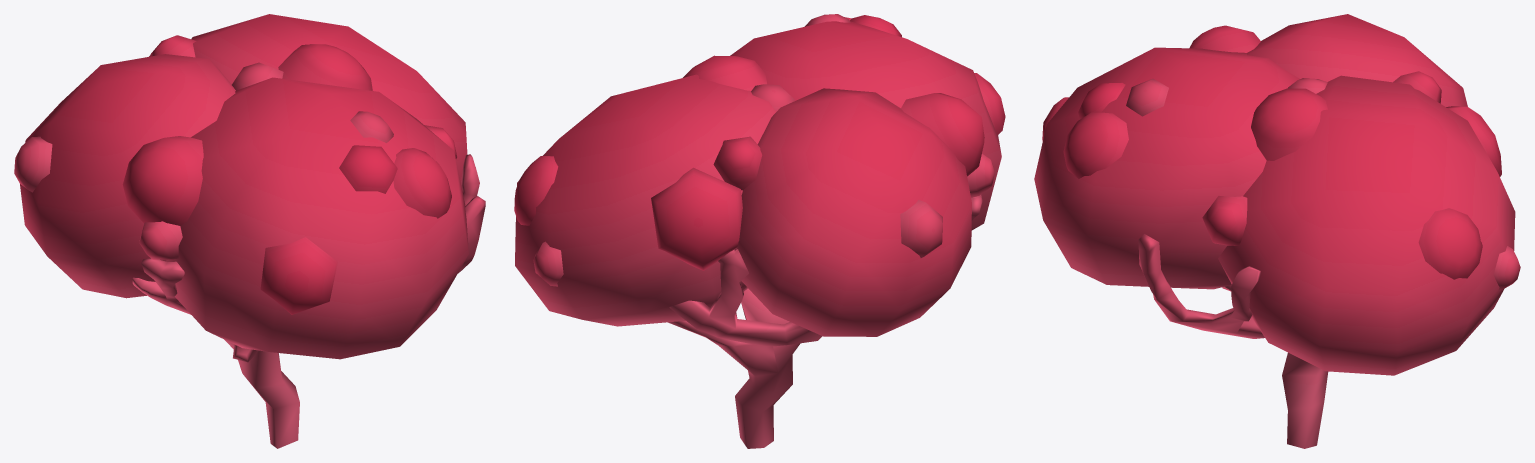
The model's file is CoralKB.fbx.
The picture shows the model from 3 angles, left to right: view 1: azimuth 30°, elevation 25°; view 2: azimuth 150°, elevation 25°; view 3: azimuth 270°, elevation 25°; orthographic projection. The views are drawn at different scales.
Parts seen in each view (by area): view 1: CoralKB; view 2: CoralKB; view 3: CoralKB.
Part boxes in pixels (box(x1,y1,x2,y2)): CoralKB: box(14, 14, 485, 448); CoralKB: box(514, 14, 1005, 448); CoralKB: box(1034, 14, 1520, 448).
Size of the model in its own units: 79.98 by 71.09 by 83.5.
Materials: 1 (1 with a texture image).
